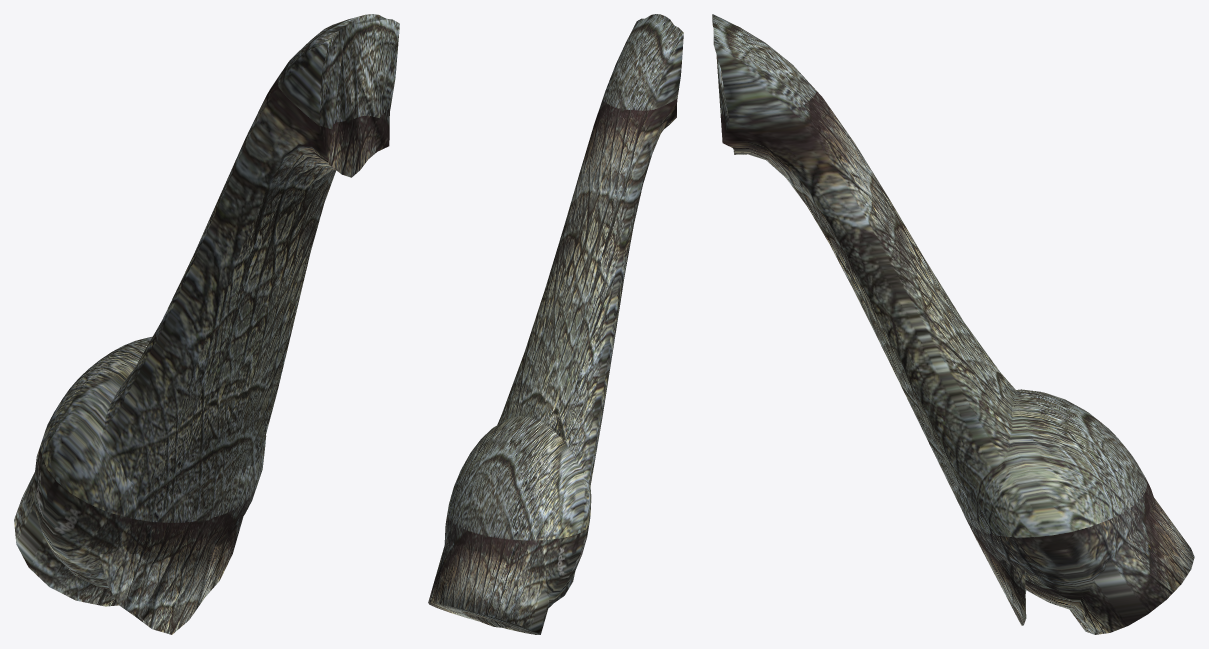
Rendered from cuello.obj.
The picture shows the model from 3 angles, left to right: view 1: azimuth 30°, elevation 25°; view 2: azimuth 150°, elevation 25°; view 3: azimuth 270°, elevation 25°; orthographic projection. The views are drawn at different scales.
Parts seen in each view (by area): view 1: Cuello; view 2: Cuello; view 3: Cuello.
Part boxes in pixels (x1,y1,x2,y2): Cuello: (14, 14, 399, 634); Cuello: (428, 14, 683, 634); Cuello: (712, 14, 1194, 634).
Size of the model in its own units: 0.9894 by 3.88 by 2.79.
Materials: 1 (1 with a texture image).
